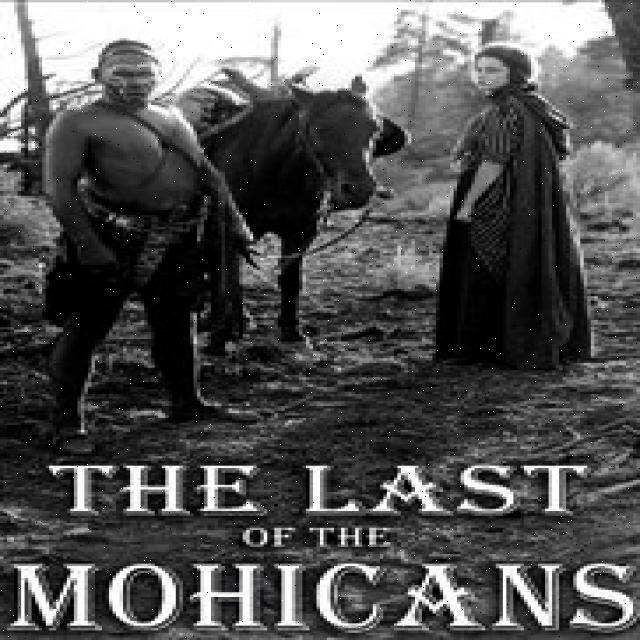movie-judul: (7, 453, 640, 637)
picture: (10, 29, 604, 439)
